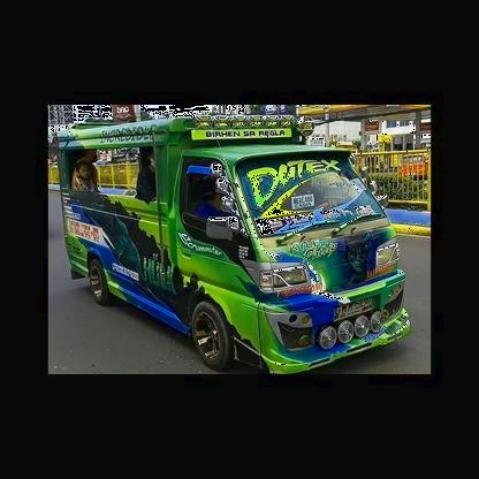jeepney: (54, 115, 413, 374)
